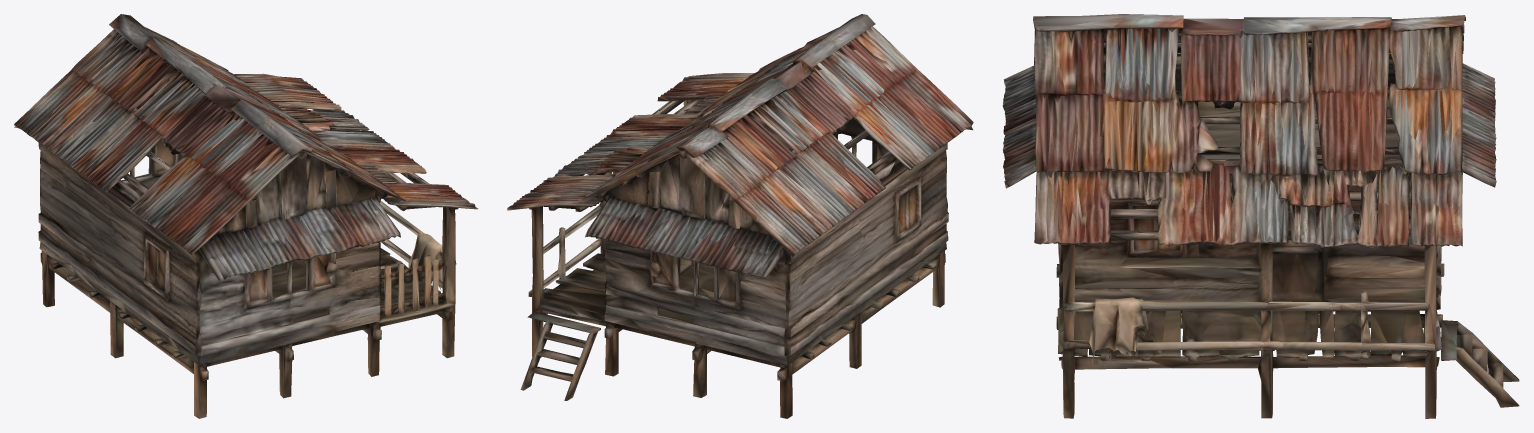
File: stilt_shack.glb
The picture shows the model from 3 angles, left to right: view 1: azimuth 30°, elevation 25°; view 2: azimuth 150°, elevation 25°; view 3: azimuth 270°, elevation 25°; orthographic projection. The views are drawn at different scales.
Parts seen in each view (by area): view 1: bld; view 2: bld; view 3: bld.
Boxes of the visible parts, x1=… form: bld: x1=14, y1=14, x2=478, y2=418; bld: x1=507, y1=14, x2=973, y2=418; bld: x1=1002, y1=14, x2=1519, y2=418.
Size of the model in its own units: 0.7708 by 0.6668 by 1.
Materials: 1 (1 with a texture image).
